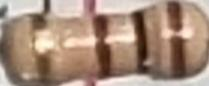Black: (130, 10, 151, 72)
Brown: (93, 14, 115, 76), (168, 2, 185, 76)
Side-Gold: (30, 14, 56, 84)
